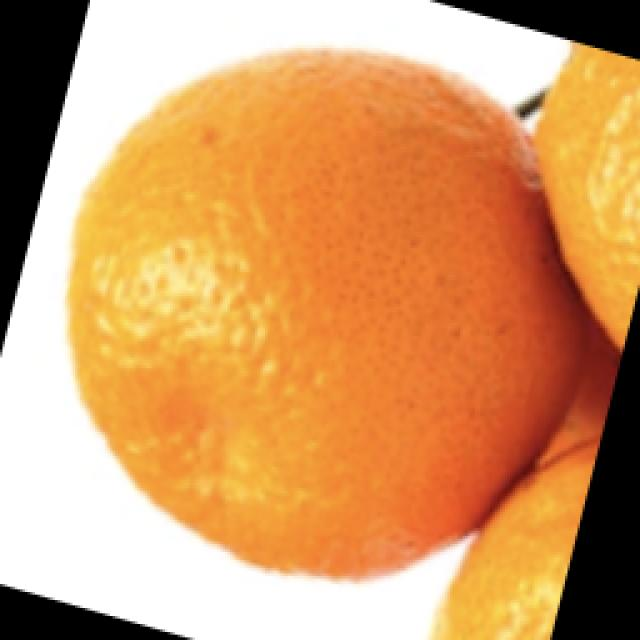fresh: (55, 50, 640, 634)
